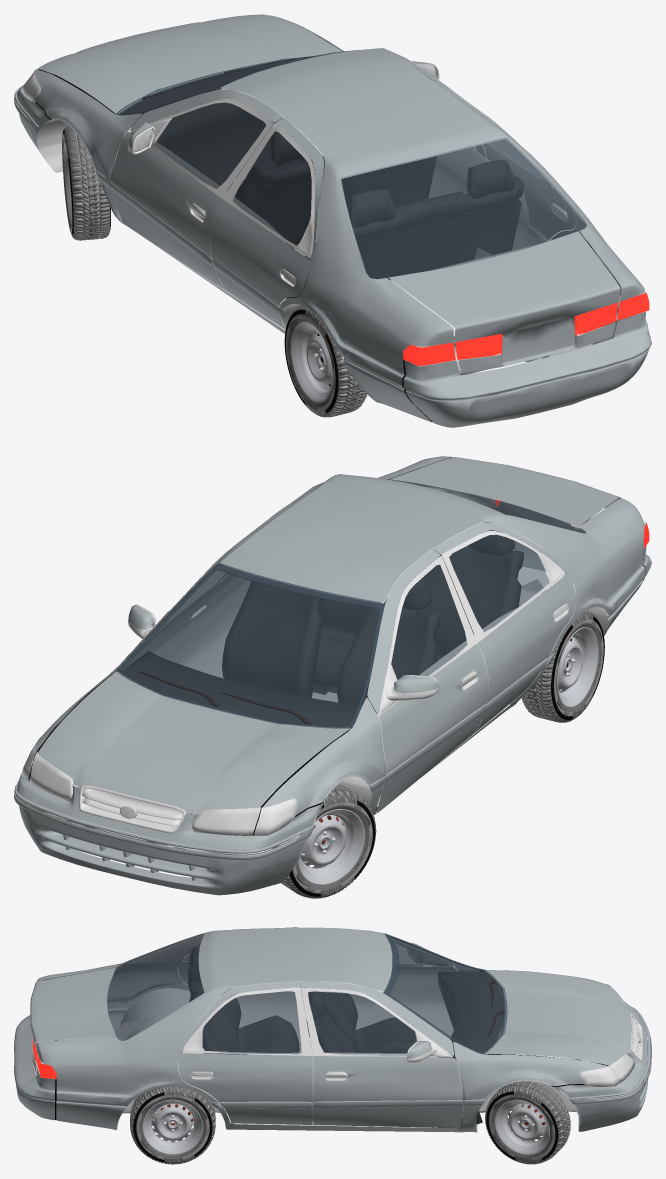
Rendered from camry.glb.
3 views of the same model, one above another, from view 1: azimuth 30°, elevation 25°; view 2: azimuth 150°, elevation 25°; view 3: azimuth 270°, elevation 25° (orthographic). The views are drawn at different scales.
Parts seen in each view (by area): view 1: camry_car; view 2: camry_car; view 3: camry_car.
Part boxes in pixels (bbox=[...]): camry_car: bbox=[14, 14, 651, 427]; camry_car: bbox=[14, 456, 651, 898]; camry_car: bbox=[14, 927, 651, 1164].
Bounding box in the file's own units: 1.98 × 1.37 × 4.82.
Materials: 33 (2 with a texture image).
